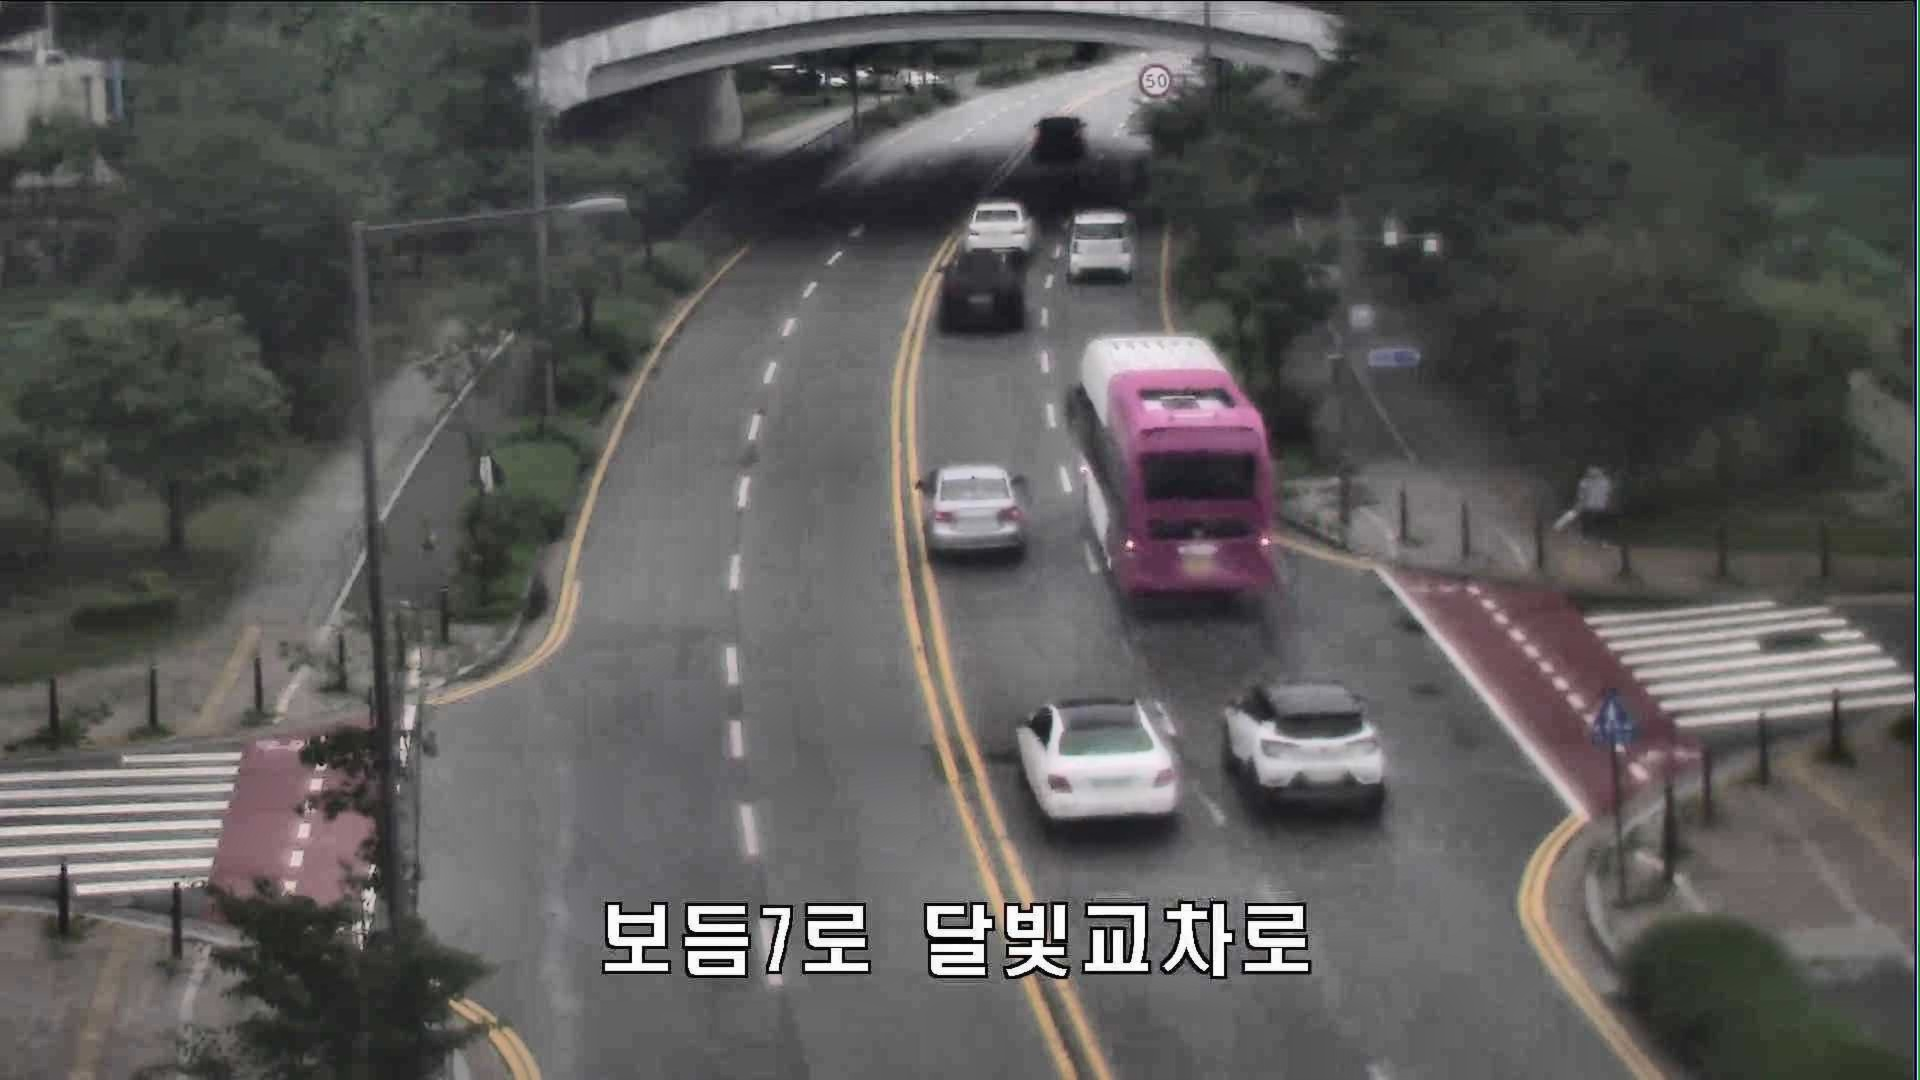sidewalk: (1567, 454, 1619, 556)
